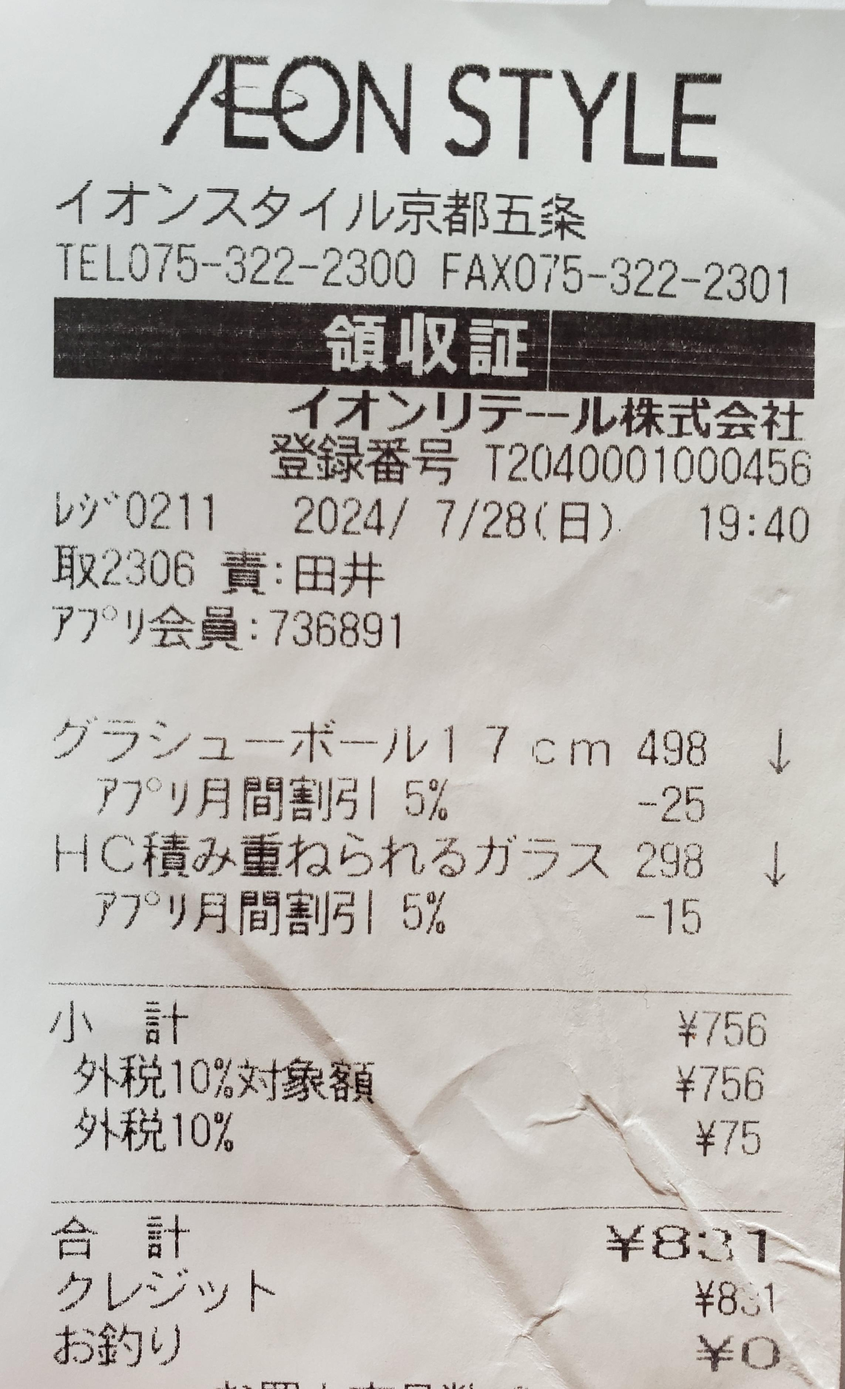TEL: (129, 235, 420, 291)
date: (263, 484, 536, 545)
total: (649, 1206, 787, 1277)
